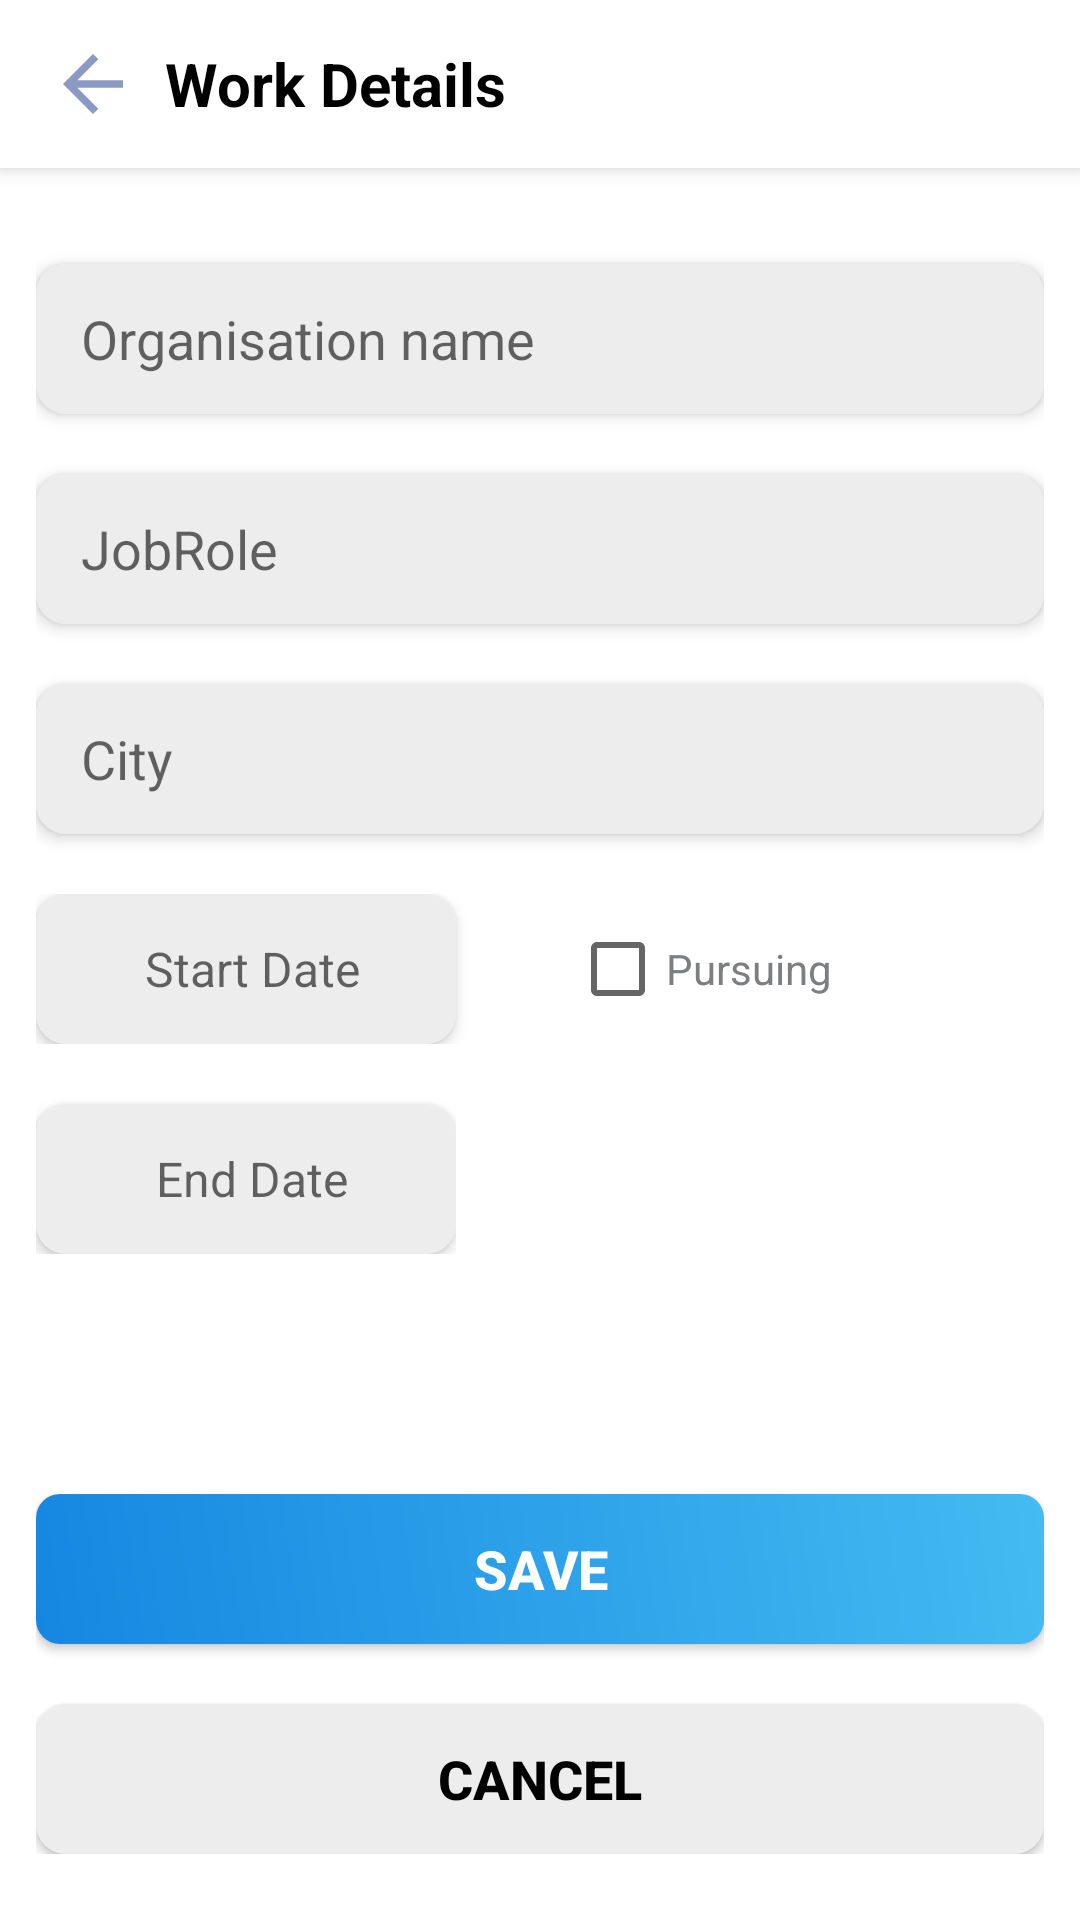

Locate icon controls on the screen. Image size 1080px x 1920px, boxes as Rect(x1, y1, x2, y2).
arrow back: Rect(63, 54, 123, 114)
